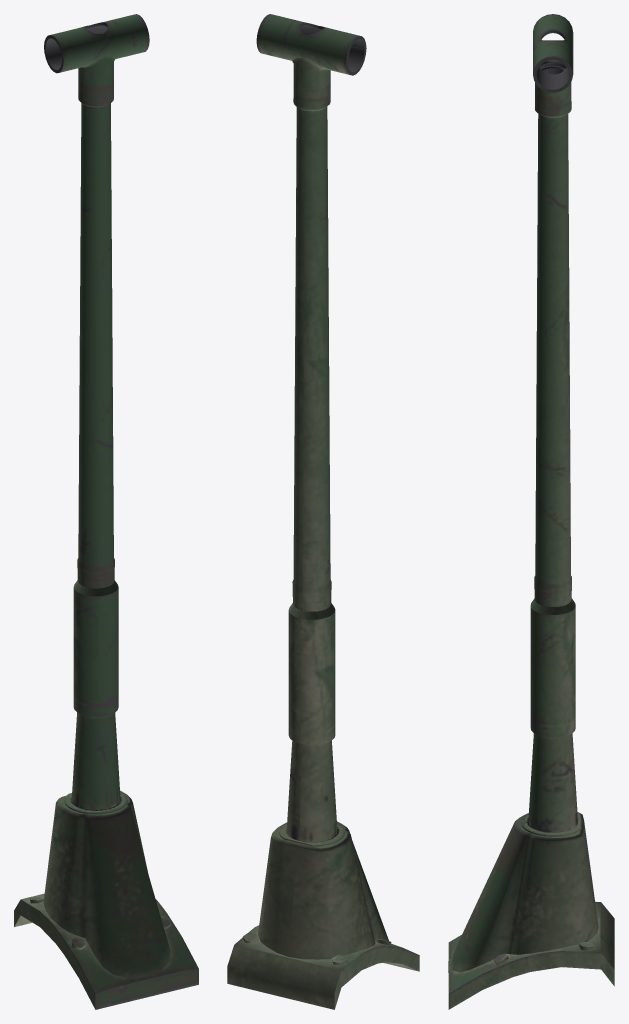
The model's file is Gun_04.glb.
The picture shows the model from 3 angles, left to right: view 1: azimuth 30°, elevation 25°; view 2: azimuth 150°, elevation 25°; view 3: azimuth 270°, elevation 25°; orthographic projection. The views are drawn at different scales.
Visible parts, largest first — view 1: set_0_group_0; view 2: set_0_group_0; view 3: set_0_group_0.
Boxes of the visible parts, bbox=[...] form: set_0_group_0: bbox=[14, 14, 198, 1009]; set_0_group_0: bbox=[227, 14, 419, 1009]; set_0_group_0: bbox=[448, 14, 614, 1009].
Size of the model in its own units: 0.4244 by 3.66 by 0.5799.
Materials: 1 (1 with a texture image).
